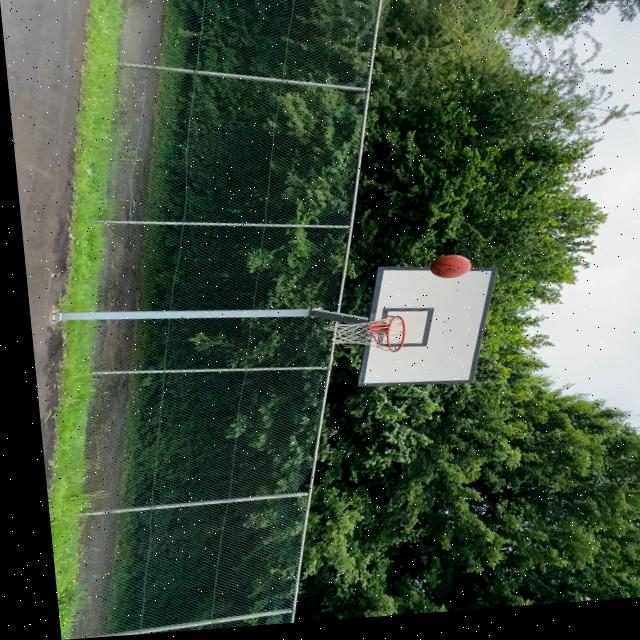Basketball: (429, 253, 473, 280)
